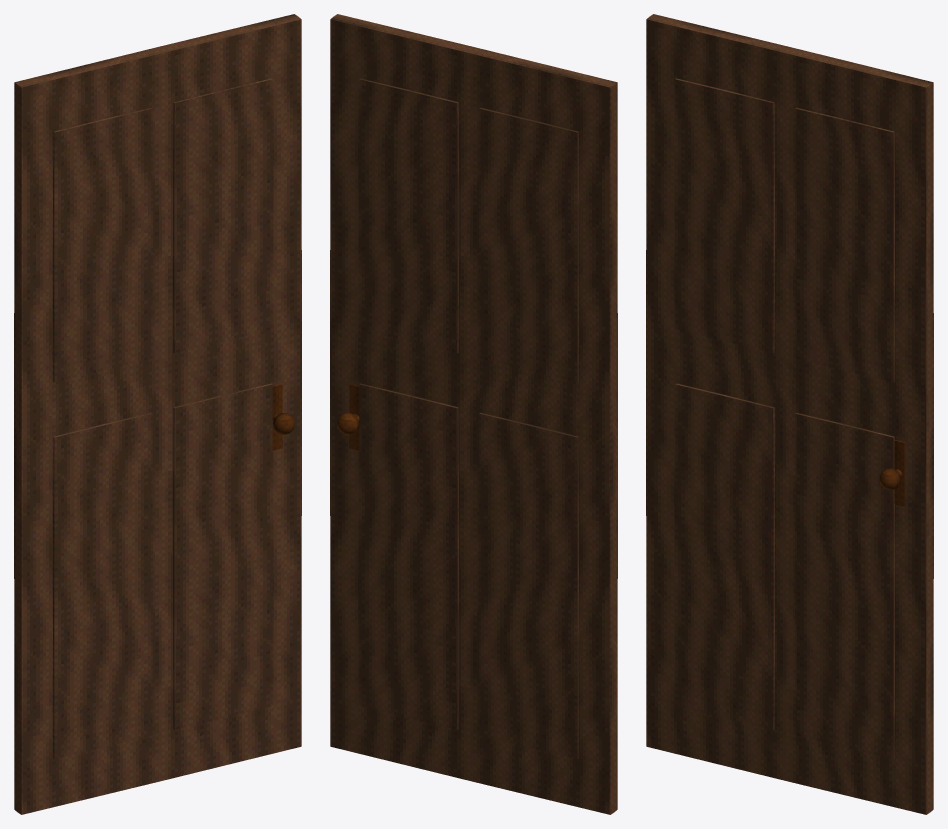
File: door_wood.glb
3 views of the same model, side by side, from view 1: azimuth 30°, elevation 25°; view 2: azimuth 150°, elevation 25°; view 3: azimuth 330°, elevation 25° (orthographic).
Visible parts, largest first — view 1: door; view 2: door; view 3: door.
Part boxes in pixels (x1,y1,x2,y2): door: (14, 14, 301, 814); door: (330, 14, 617, 814); door: (646, 14, 933, 814).
Bounding box in the file's own units: 0.82 × 2.03 × 0.1833.
1 material, 1 textured.
